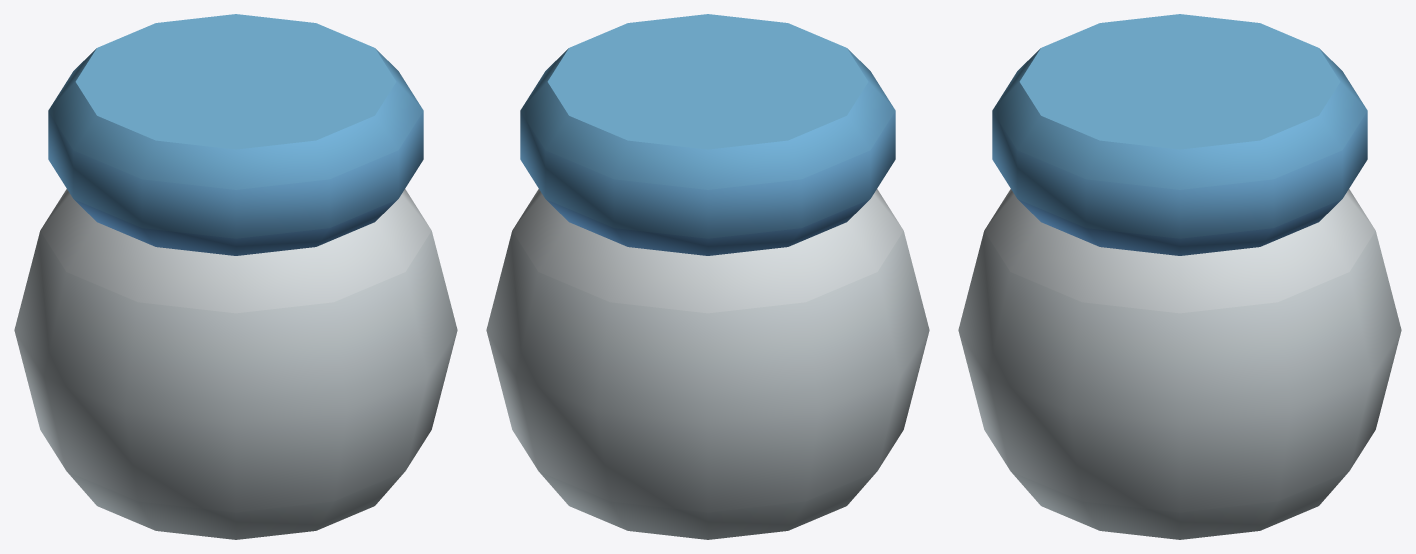
Rendered from kay-jar_a_small.glb.
The picture shows the model from 3 angles, left to right: view 1: azimuth 30°, elevation 25°; view 2: azimuth 150°, elevation 25°; view 3: azimuth 270°, elevation 25°; orthographic projection.
Visible parts, largest first — view 1: jar_A_small; view 2: jar_A_small; view 3: jar_A_small.
Boxes of the visible parts, left/top/right/bottom form: jar_A_small: left=14, top=14, right=457, bottom=539; jar_A_small: left=486, top=14, right=929, bottom=539; jar_A_small: left=958, top=14, right=1401, bottom=539.
Size of the model in its own units: 0.22 by 0.2138 by 0.22.
Materials: 1 (1 with a texture image).
